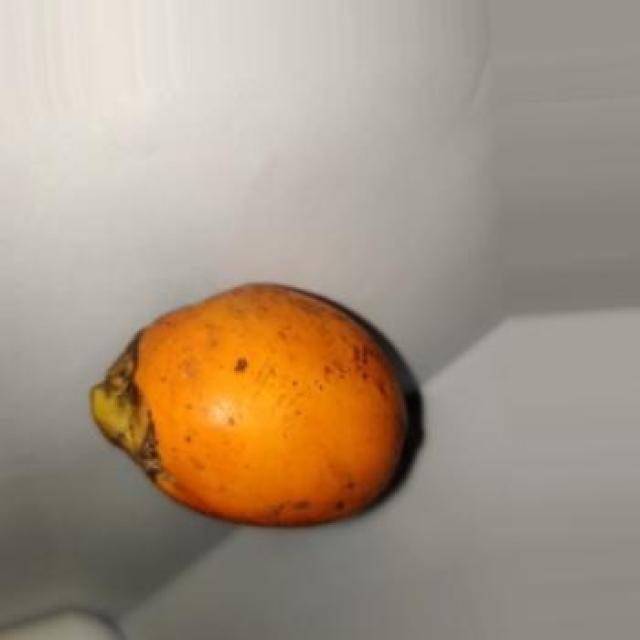good: (90, 285, 422, 528)
